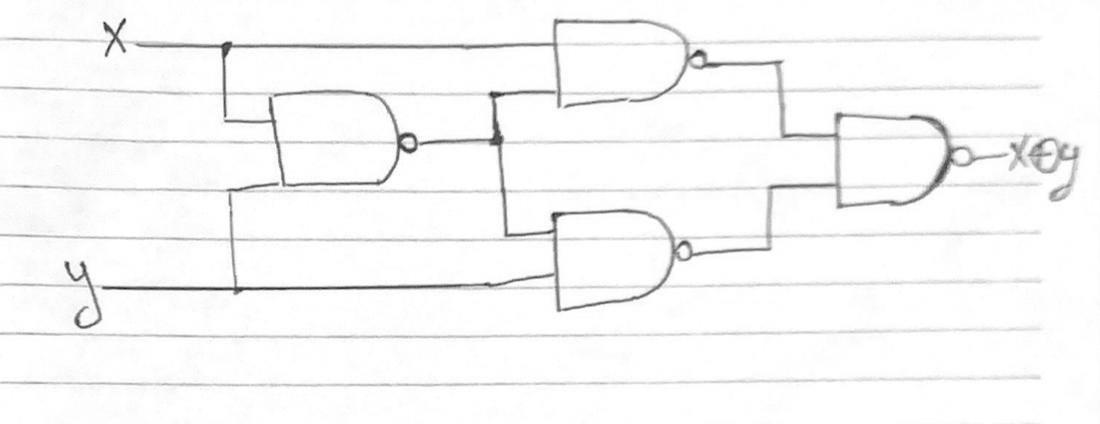NAND: (260, 77, 432, 210), (819, 89, 979, 228), (544, 9, 717, 130), (531, 198, 703, 315)
